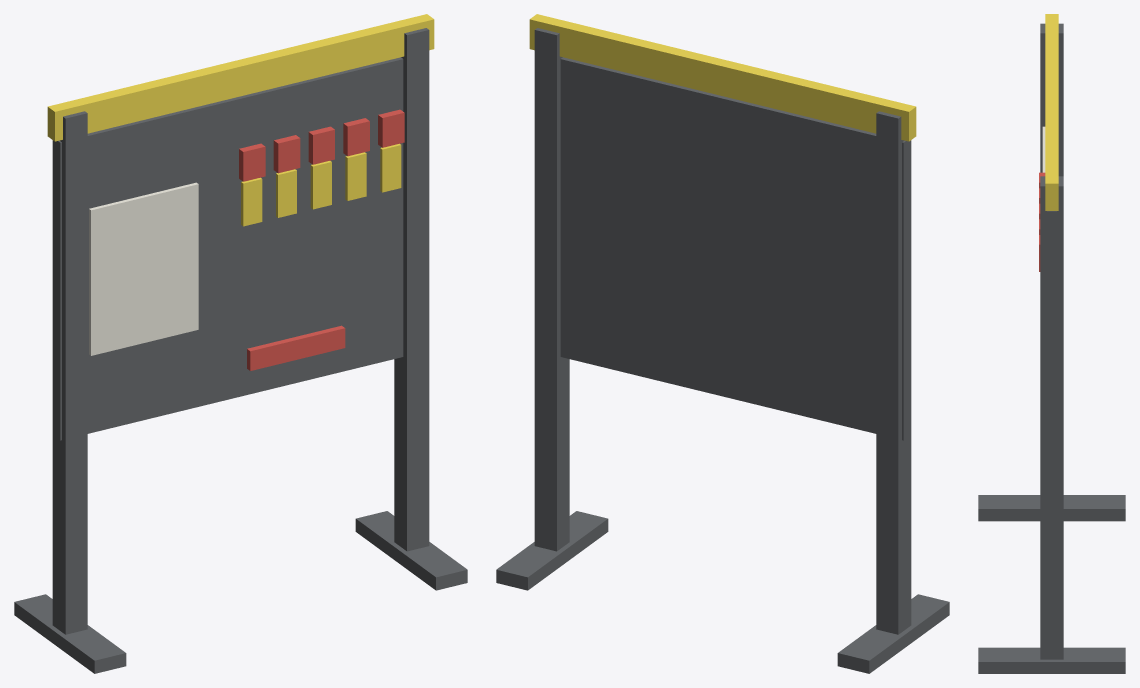
File: machine-shop-welding-bay-stores.glb
3 views of the same model, side by side, from view 1: azimuth 30°, elevation 25°; view 2: azimuth 150°, elevation 25°; view 3: azimuth 270°, elevation 25° (orthographic). The views are drawn at different scales.
Parts seen in each view (by area): view 1: machine-shop-and-factory-hall-lockout-board; view 2: machine-shop-and-factory-hall-lockout-board; view 3: machine-shop-and-factory-hall-lockout-board.
Boxes of the visible parts, x1,y1,x2,y2 form: machine-shop-and-factory-hall-lockout-board: (14,14,467,673); machine-shop-and-factory-hall-lockout-board: (496,14,949,673); machine-shop-and-factory-hall-lockout-board: (978,14,1125,673).
Size of the model in its own units: 1.2 by 1.62 by 0.4401.
